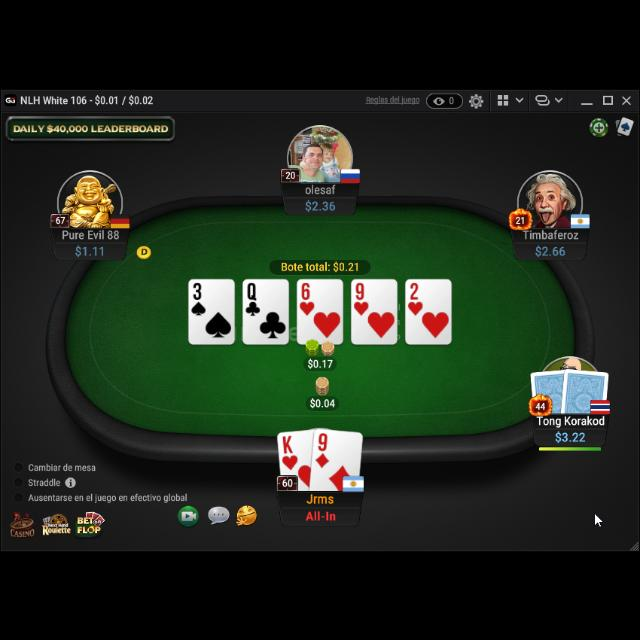2h: (406, 278, 424, 316)
3s: (190, 280, 208, 316)
6h: (352, 280, 370, 316), (298, 280, 316, 314)
9d: (314, 430, 332, 468)
9h: (352, 280, 371, 314)
Kh: (280, 431, 300, 469)
Qc: (244, 280, 262, 316)
all_in_symbol: (304, 504, 338, 520)
bet_text: (308, 354, 334, 368), (309, 394, 337, 406)
card_back: (560, 364, 610, 416), (530, 366, 570, 414)
dealer: (134, 241, 154, 259)
pot_text: (281, 258, 361, 272)
stack_text: (302, 196, 338, 210), (554, 427, 586, 441), (534, 241, 566, 255), (74, 242, 106, 256)
